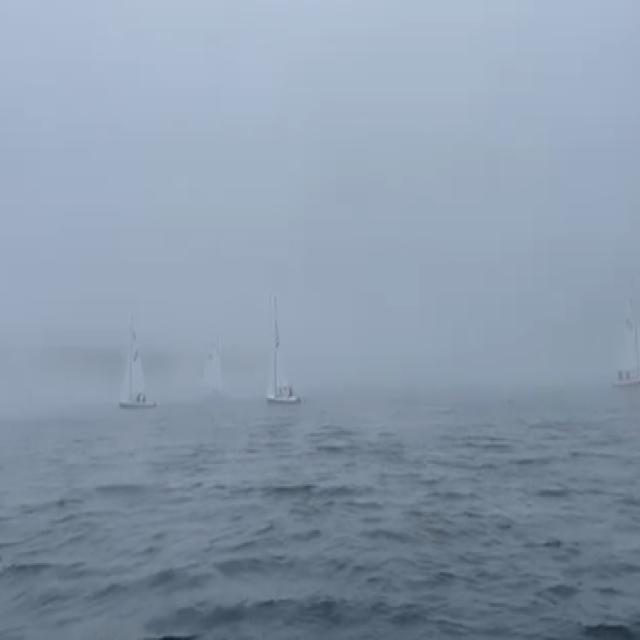sailboat: (256, 285, 302, 412), (120, 300, 158, 410), (194, 308, 234, 399), (612, 288, 640, 391)
